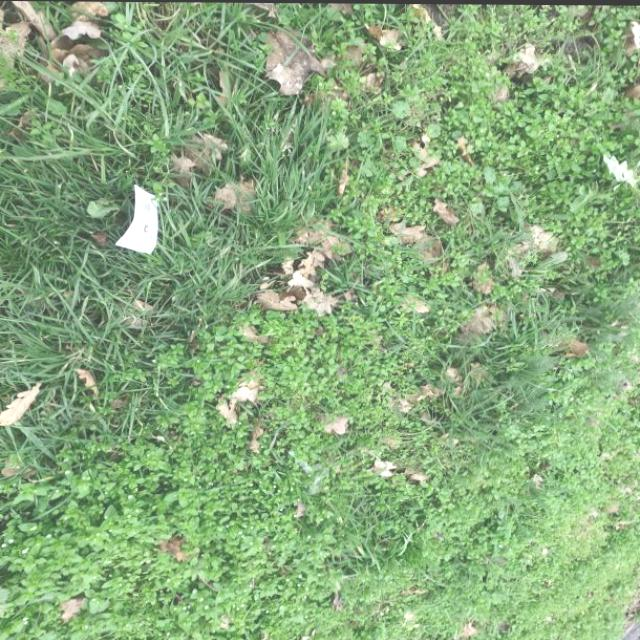Paper: (107, 183, 167, 257)
